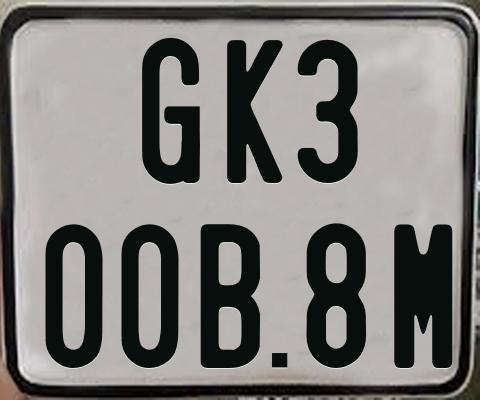0: (43, 221, 107, 367), (118, 223, 178, 369)
3: (297, 38, 361, 185)
8: (306, 220, 367, 366)
B: (197, 224, 262, 370)
G: (139, 37, 203, 188)
K: (226, 37, 285, 186)
M: (394, 223, 455, 368)
